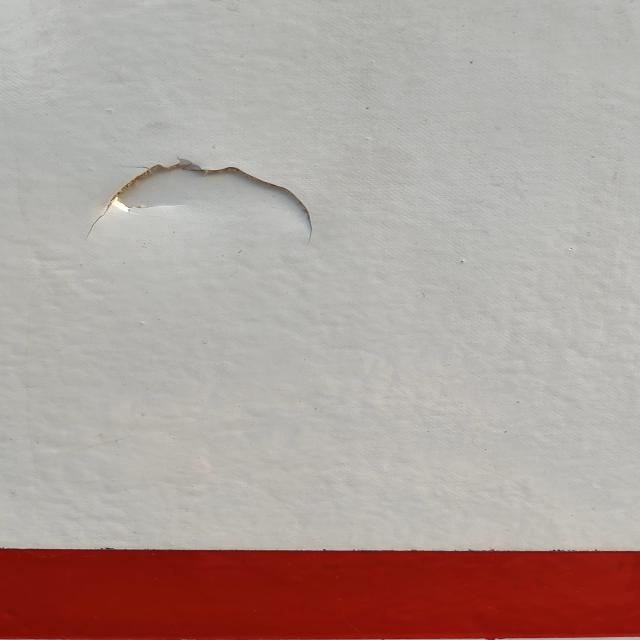Scratches: (74, 150, 333, 248)
